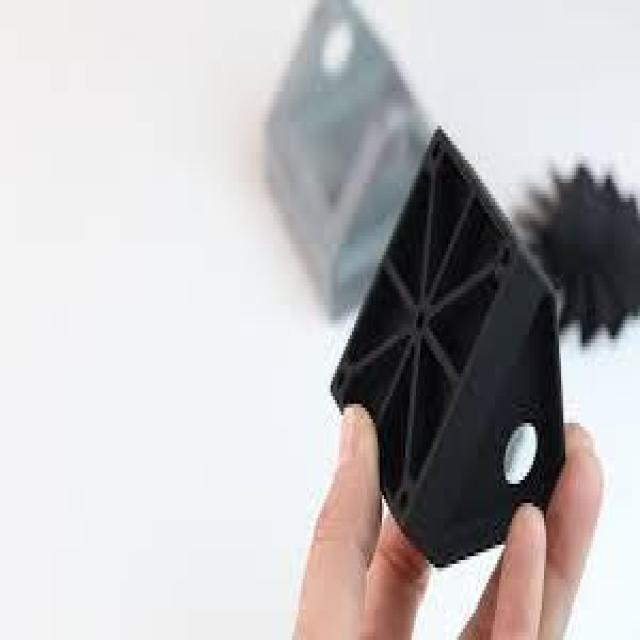Without deffect: (318, 123, 570, 574)
